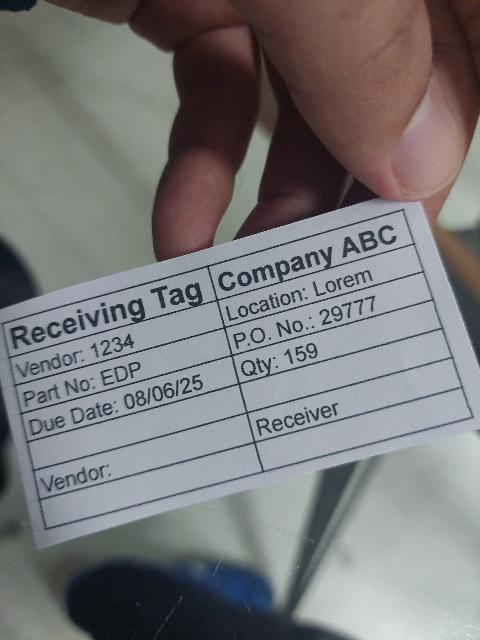PO no: (225, 274, 433, 356)
part no: (15, 328, 230, 413)
qty: (231, 299, 442, 383)
tags: (0, 200, 480, 553)
